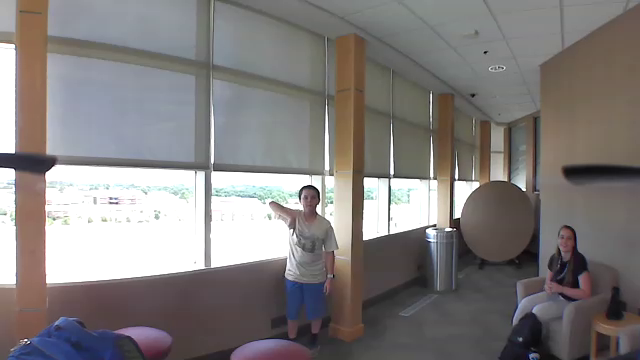down: (286, 215, 299, 239)
